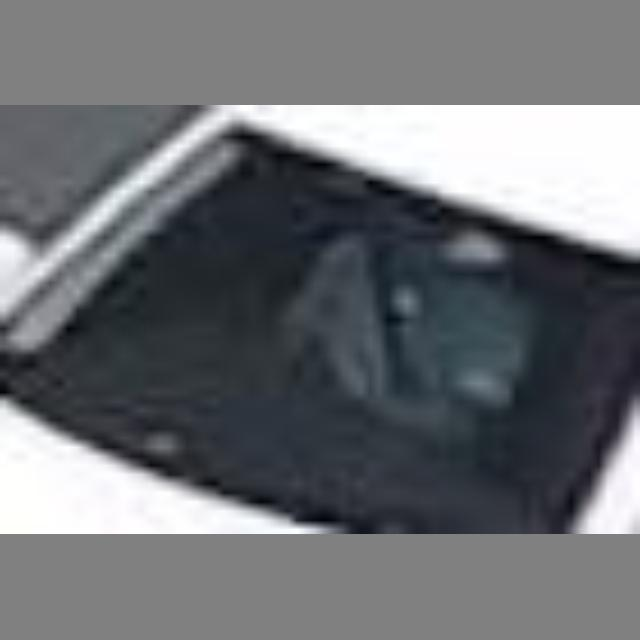pakai: (274, 233, 521, 462)
